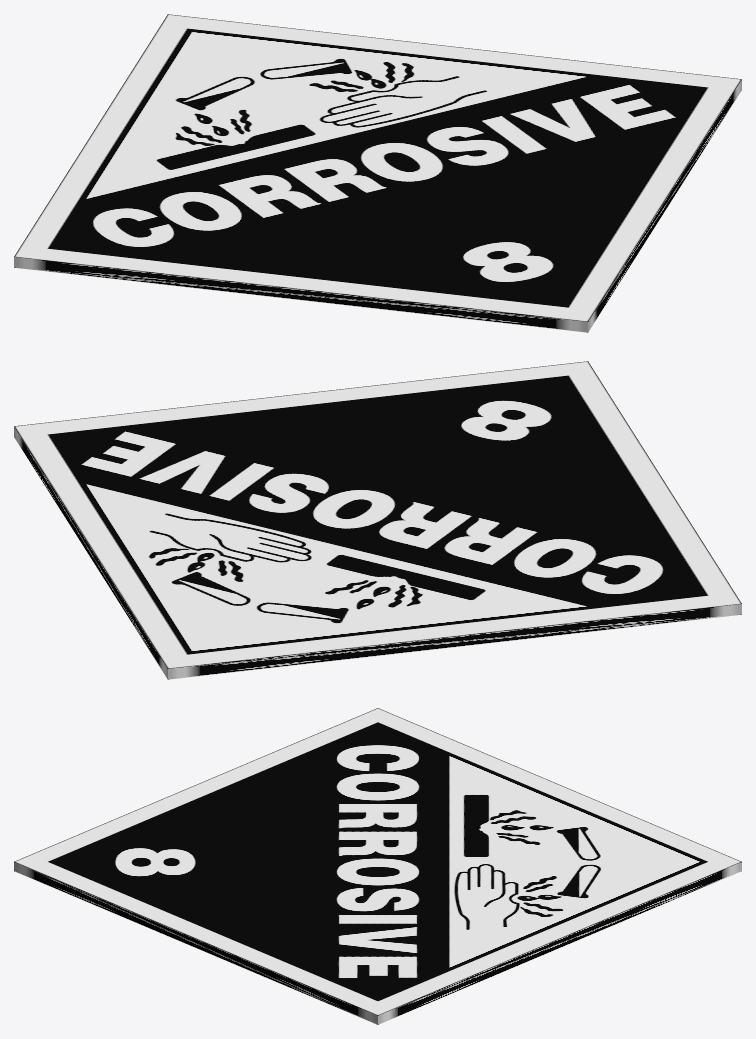
Rendered from hazmat_corrosive.dae.
3 renders of one model, top to bottom at view 1: azimuth 30°, elevation 25°; view 2: azimuth 150°, elevation 25°; view 3: azimuth 270°, elevation 25°, orthographic. The views are drawn at different scales.
Visible parts, largest first — view 1: Sign_Material.021; view 2: Sign_Material.021; view 3: Sign_Material.021.
Boxes of the visible parts, <box> form: Sign_Material.021: <box>14,14,741,332</box>; Sign_Material.021: <box>14,361,741,679</box>; Sign_Material.021: <box>14,708,741,1024</box>.
Bounding box in the file's own units: 0.1414 × 0.1414 × 0.002.
Materials: 1 (1 with a texture image).
